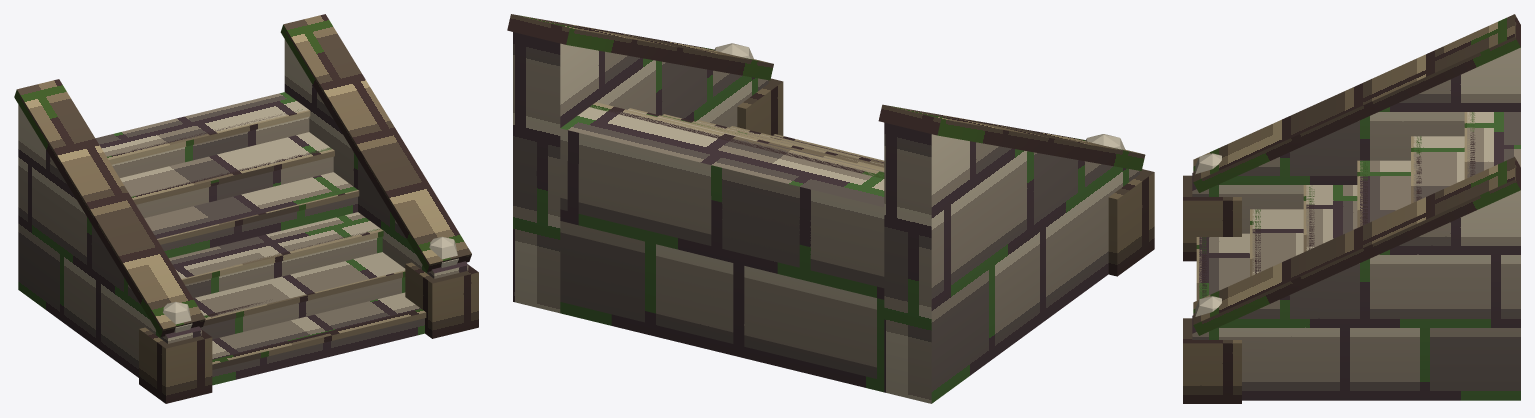
File: scene_stair_land.glb
3 renders of one model, left to right at view 1: azimuth 30°, elevation 25°; view 2: azimuth 150°, elevation 25°; view 3: azimuth 270°, elevation 25°, orthographic. The views are drawn at different scales.
Parts seen in each view (by area): view 1: scene_stair_land; view 2: scene_stair_land; view 3: scene_stair_land.
Part boxes in pixels (box(x1,y1,x2,y2)): scene_stair_land: box(14, 14, 478, 403); scene_stair_land: box(507, 14, 1154, 403); scene_stair_land: box(1183, 14, 1520, 403).
Bounding box in the file's own units: 2.96 × 1.84 × 2.52.
2 materials, 1 textured.
